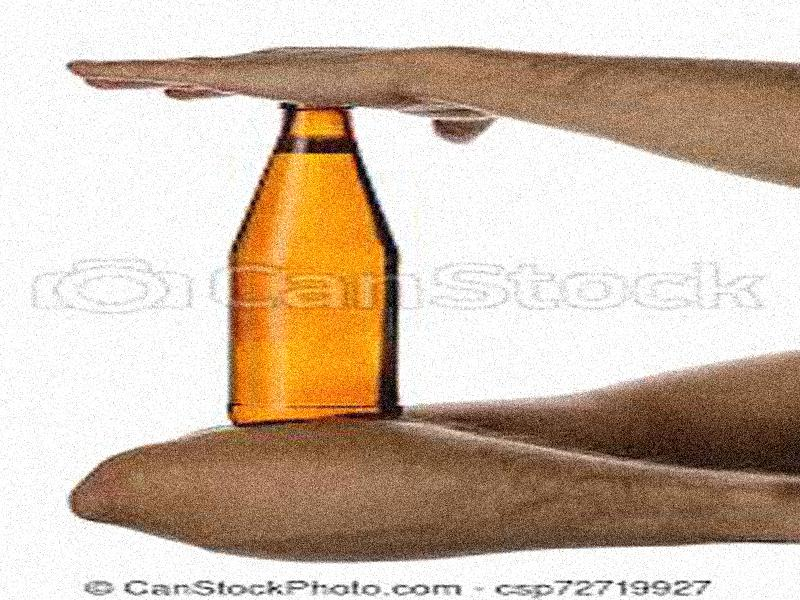Beer: (223, 98, 407, 421)
